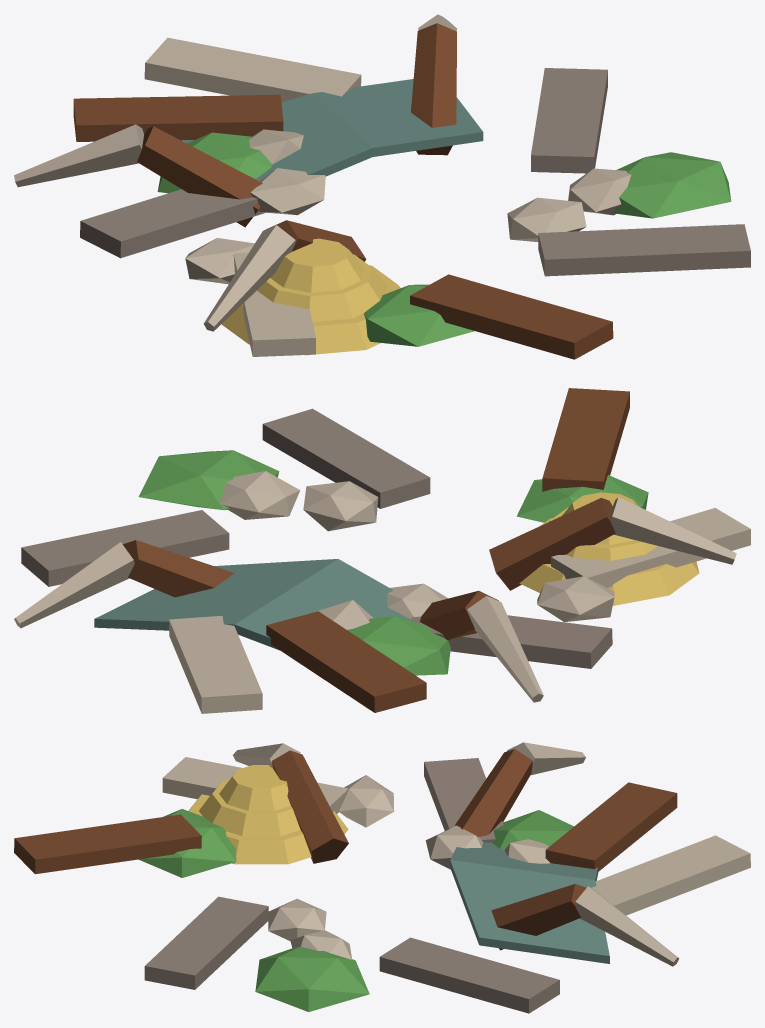
The model's file is ship_debris_cluster.glb.
3 views of the same model, one above another, from view 1: azimuth 30°, elevation 25°; view 2: azimuth 150°, elevation 25°; view 3: azimuth 270°, elevation 25° (orthographic). The views are drawn at different scales.
Visible parts, largest first — view 1: Debris_Canvas_Front, Debris_Plank_7, Debris_Plank_6, Debris_Plank_2, Debris_Plank_3, Debris_Plank_1, Debris_Plank_4, Debris_Weed_1, Debris_Rib_2, Debris_Rib_1, Debris_Plank_5, Debris_Weed_3 (+13 smaller); view 2: Debris_Canvas_Front, Debris_Plank_3, Debris_Plank_7, Debris_Plank_1, Debris_Plank_6, Debris_Plank_2, Debris_Rib_3, Debris_Weed_1, Debris_Plank_4, Debris_Plank_5, Debris_Weed_2, Debris_Rib_1 (+14 smaller); view 3: Debris_Canvas_Front, Debris_Plank_1, Debris_Plank_6, Debris_Plank_2, Debris_Plank_7, Debris_Plank_3, Debris_Weed_1, Debris_Rib_3, Debris_Rib_2, Debris_Plank_4, Debris_Rib_1, Debris_Weed_3 (+14 smaller).
Part boxes in pixels (left/top/right/bottom): Debris_Canvas_Front: left=181, top=79, right=482, bottom=180; Debris_Plank_7: left=538, top=224, right=750, bottom=276; Debris_Plank_6: left=410, top=274, right=613, bottom=359; Debris_Plank_2: left=144, top=37, right=361, bottom=102; Debris_Plank_3: left=73, top=94, right=283, bottom=141; Debris_Plank_1: left=531, top=68, right=607, bottom=173; Debris_Plank_4: left=80, top=176, right=265, bottom=258; Debris_Weed_1: left=612, top=152, right=731, bottom=218; Debris_Rib_2: left=137, top=126, right=262, bottom=227; Debris_Rib_1: left=411, top=23, right=456, bottom=155; Debris_Plank_5: left=233, top=252, right=315, bottom=356; Debris_Weed_3: left=363, top=284, right=474, bottom=346; Debris_Canvas_Front: left=94, top=559, right=410, bottom=637; Debris_Plank_3: left=266, top=611, right=426, bottom=712; Debris_Plank_7: left=262, top=408, right=430, bottom=508; Debris_Plank_1: left=21, top=510, right=229, bottom=586; Debris_Plank_6: left=542, top=388, right=629, bottom=491; Debris_Plank_2: left=169, top=616, right=262, bottom=713; Debris_Rib_3: left=489, top=497, right=615, bottom=590; Debris_Weed_1: left=138, top=450, right=279, bottom=510; Debris_Plank_4: left=409, top=615, right=612, bottom=668; Debris_Plank_5: left=551, top=508, right=750, bottom=587; Debris_Weed_2: left=347, top=616, right=450, bottom=675; Debris_Rib_1: left=123, top=540, right=234, bottom=597; Debris_Canvas_Front: left=450, top=842, right=609, bottom=956; Debris_Plank_1: left=379, top=937, right=559, bottom=1013; Debris_Plank_6: left=14, top=814, right=201, bottom=874; Debris_Plank_2: left=591, top=835, right=750, bottom=915; Debris_Plank_7: left=144, top=896, right=268, bottom=989; Debris_Plank_3: left=545, top=782, right=677, bottom=871; Debris_Weed_1: left=255, top=946, right=369, bottom=1011; Debris_Rib_3: left=272, top=750, right=348, bottom=863; Debris_Rib_2: left=455, top=749, right=532, bottom=836; Debris_Plank_4: left=424, top=758, right=503, bottom=842; Debris_Rib_1: left=491, top=884, right=586, bottom=950; Debris_Weed_3: left=139, top=809, right=236, bottom=877.
Size of the model in its own units: 1.97 by 0.3105 by 2.54.
